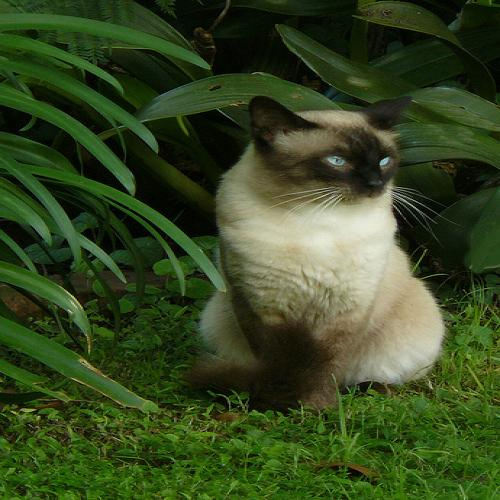siamese: (228, 83, 432, 241)
